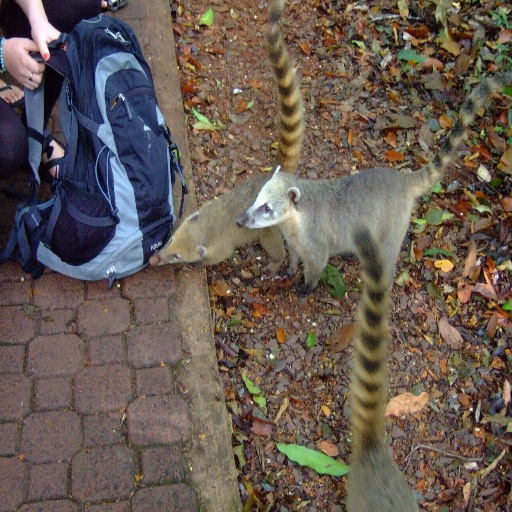hand: (0, 5, 56, 95), (29, 17, 68, 62)
